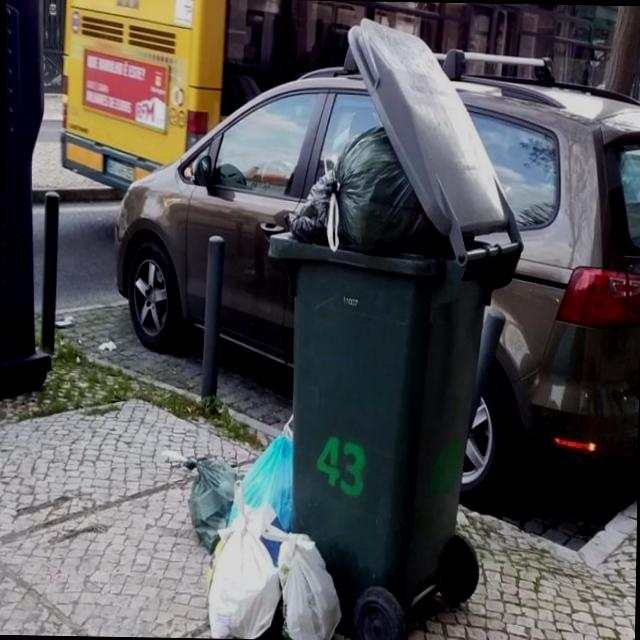garbage: (184, 11, 498, 640)
